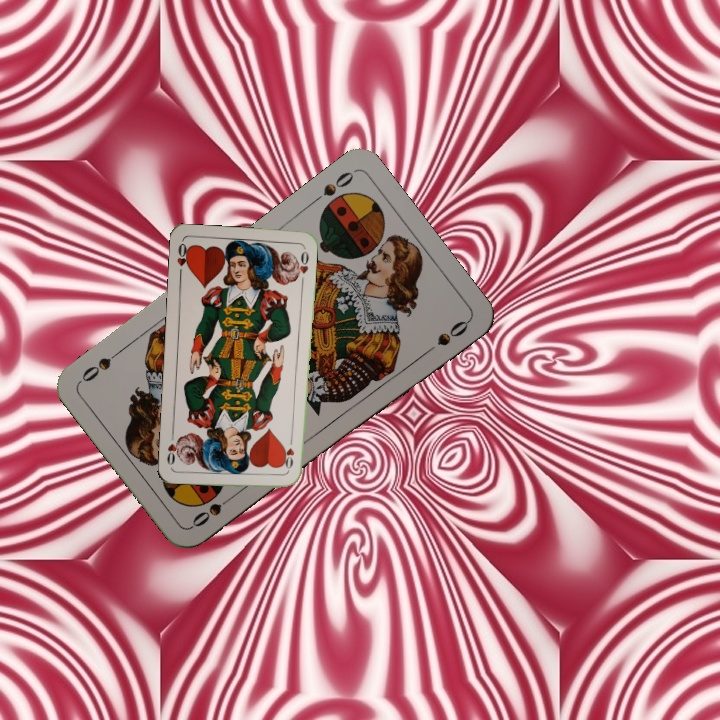HO: (173, 239, 192, 279), (282, 433, 297, 473)
SO: (187, 489, 239, 530), (306, 167, 357, 208)
